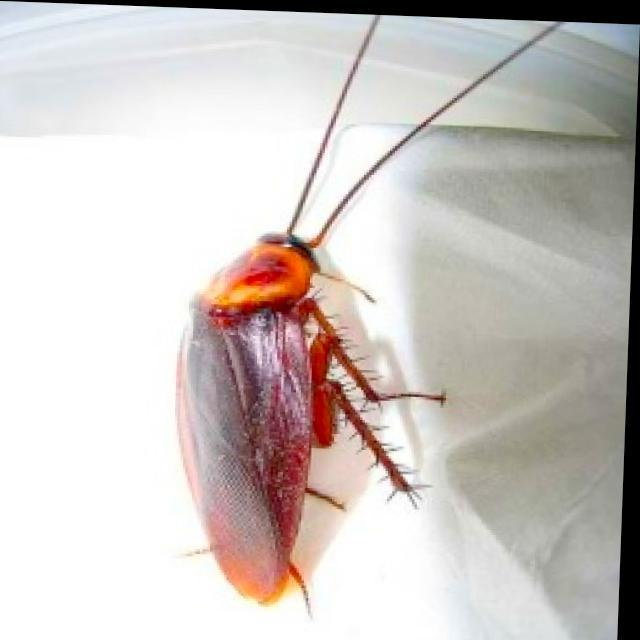cockroach: (146, 76, 462, 640)
